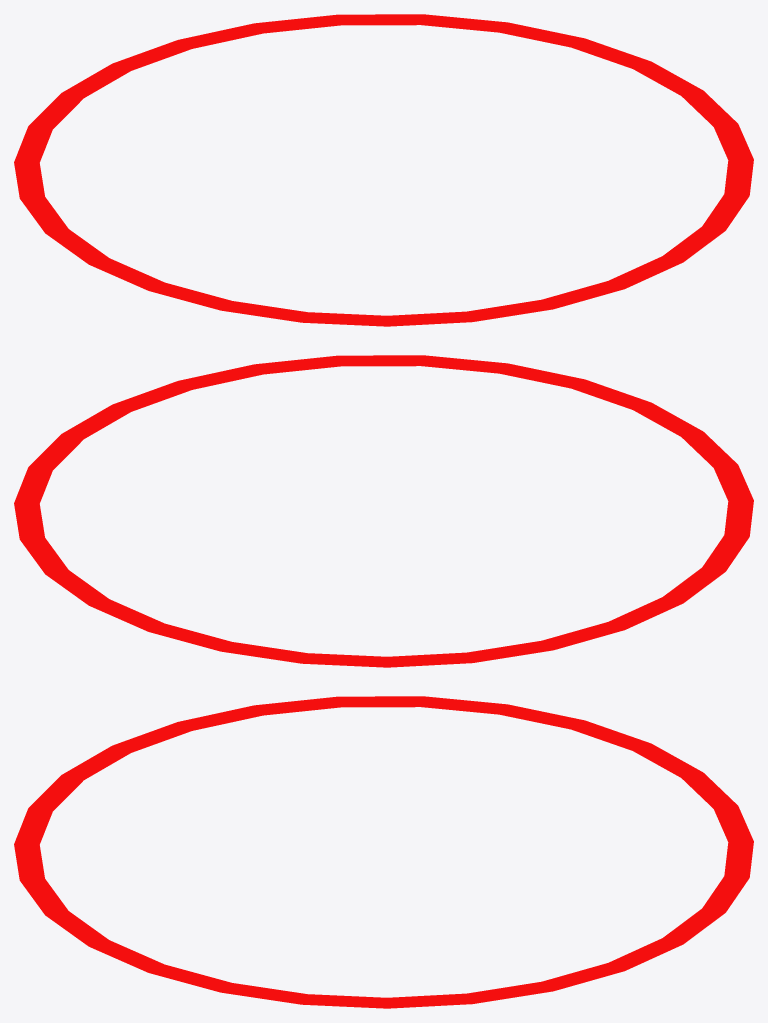
File: Mkhehg-582Ring5.gltf
3 views of the same model, one above another, from view 1: azimuth 30°, elevation 25°; view 2: azimuth 150°, elevation 25°; view 3: azimuth 270°, elevation 25° (orthographic).
Size of the model in its own units: 181 by 0 by 181.
